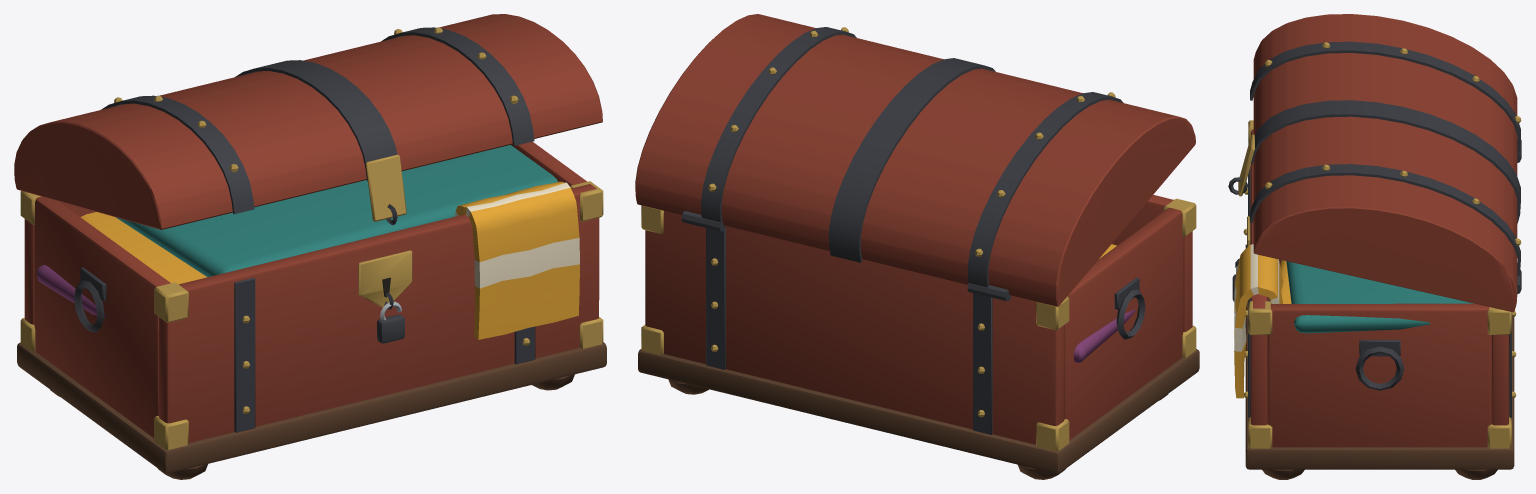
File: deco_chest_storage.fbx
3 renders of one model, left to right at view 1: azimuth 30°, elevation 25°; view 2: azimuth 150°, elevation 25°; view 3: azimuth 270°, elevation 25°, orthographic. The views are drawn at different scales.
Visible parts, largest first — view 1: Chest_Storage_Box, Chest_Storage_Lid, Chest_Storage_Cloth, Chest_Storage_Straps, Chest_Storage_Lock; view 2: Chest_Storage_Lid, Chest_Storage_Box, Chest_Storage_Straps; view 3: Chest_Storage_Lid, Chest_Storage_Box, Chest_Storage_Straps, Chest_Storage_Cloth.
Part boxes in pixels (left/top/right/bottom): Chest_Storage_Box: left=17, top=141, right=606, bottom=479; Chest_Storage_Lid: left=14, top=14, right=602, bottom=229; Chest_Storage_Cloth: left=455, top=181, right=579, bottom=339; Chest_Storage_Straps: left=20, top=181, right=603, bottom=449; Chest_Storage_Lock: left=358, top=250, right=412, bottom=343; Chest_Storage_Lid: left=635, top=14, right=1195, bottom=306; Chest_Storage_Box: left=638, top=195, right=1199, bottom=479; Chest_Storage_Straps: left=641, top=198, right=1196, bottom=451; Chest_Storage_Lid: left=1228, top=14, right=1521, bottom=312; Chest_Storage_Box: left=1245, top=129, right=1514, bottom=479; Chest_Storage_Straps: left=1243, top=120, right=1521, bottom=448; Chest_Storage_Cloth: left=1234, top=244, right=1283, bottom=398.
Size of the model in its own units: 136 by 93.85 by 85.08.
